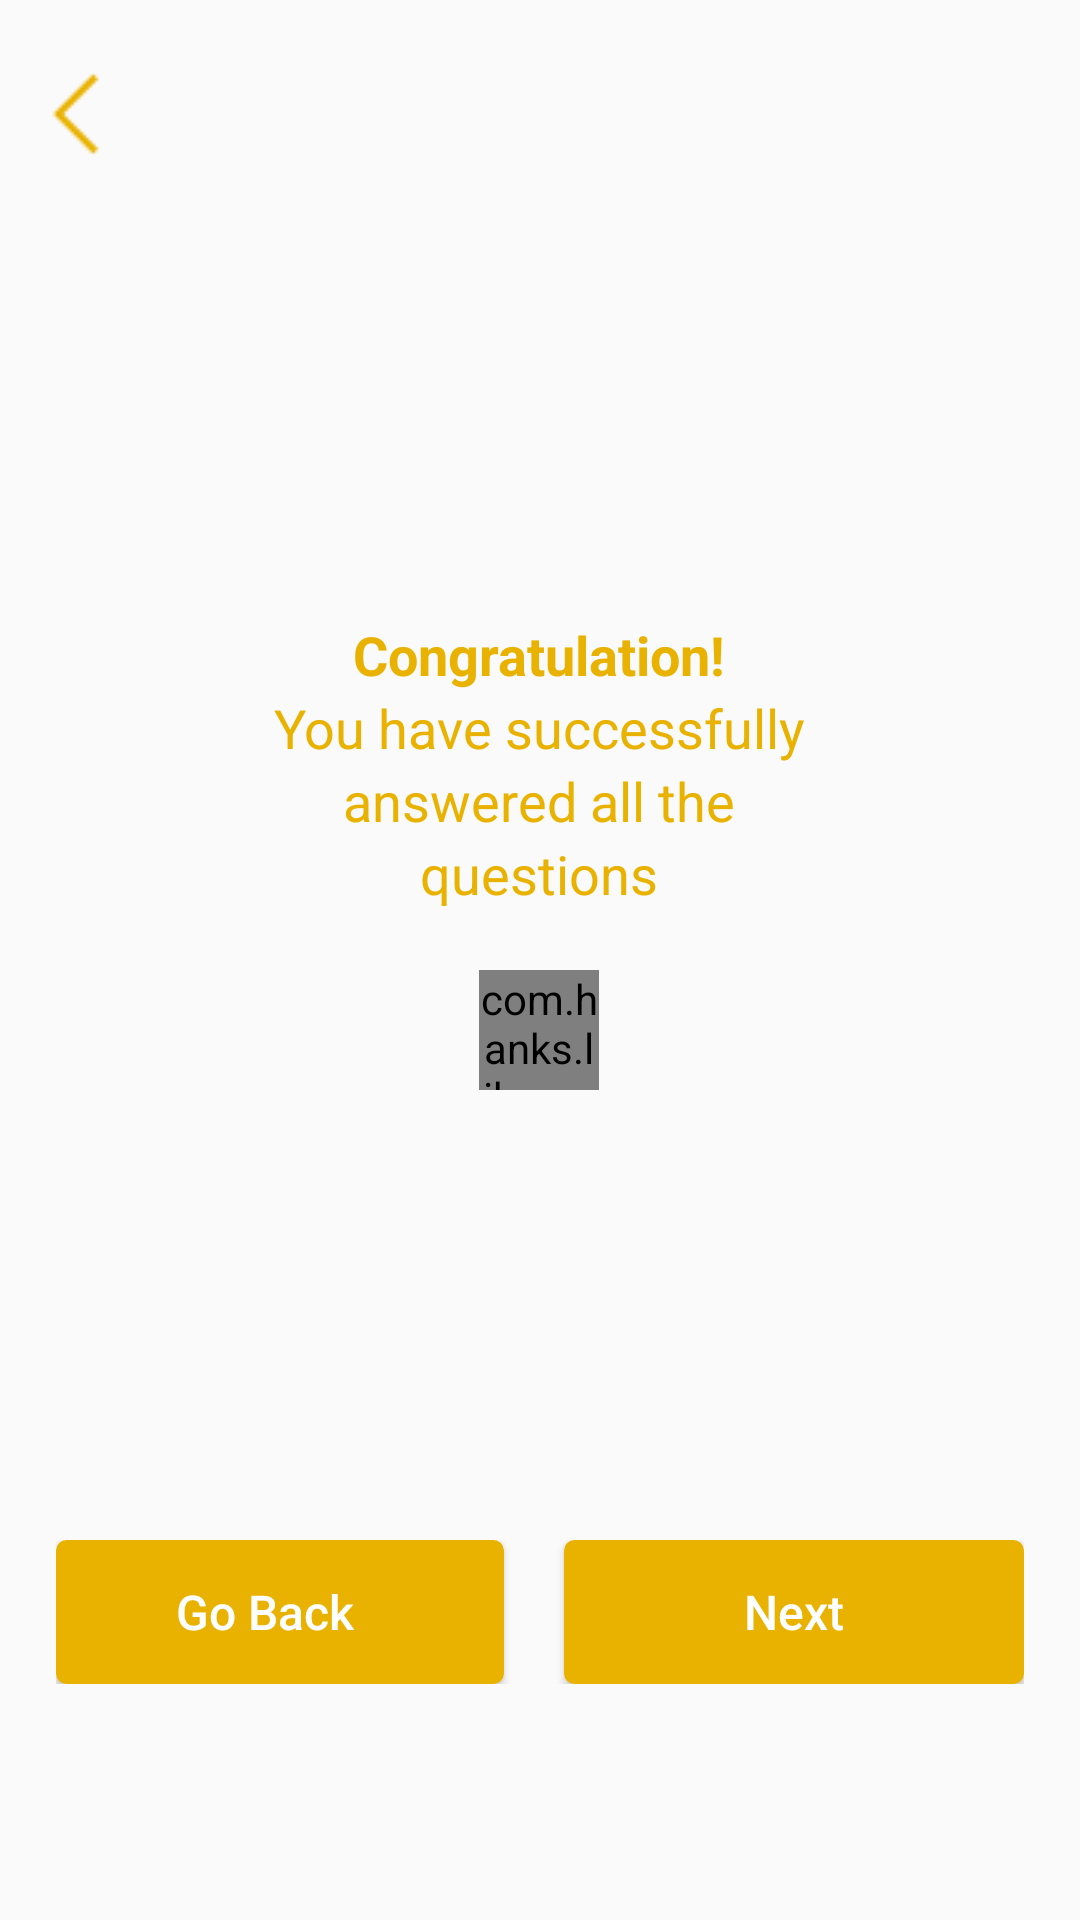

Where to tap for icons on this 1080x1920 app screen, as [x,y]:
back: [75,114]
